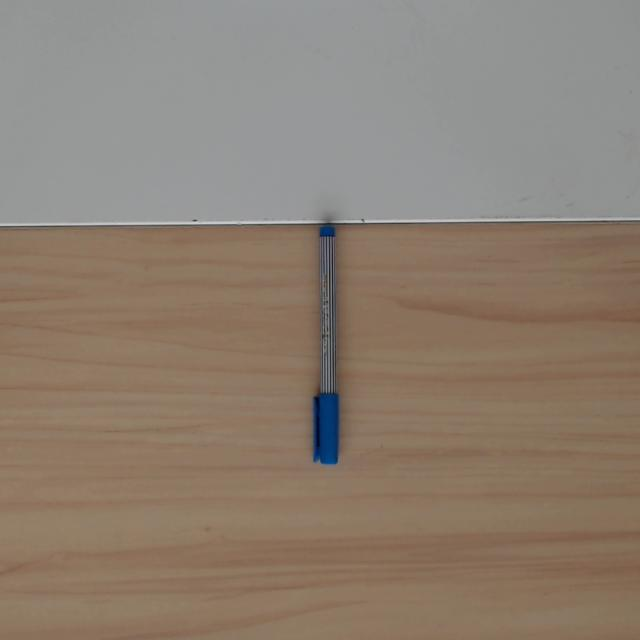Pulpen-Garis-Biru: (312, 226, 340, 466)
